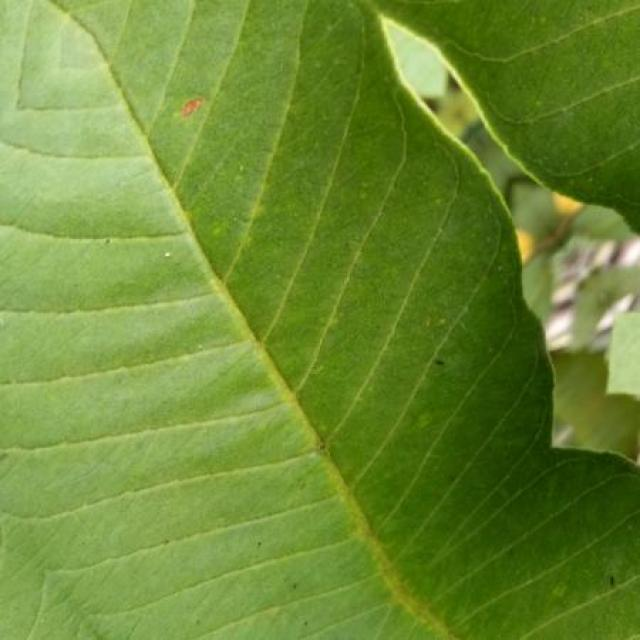Disease Free: (72, 1, 640, 640), (0, 0, 436, 639), (375, 0, 640, 232)
